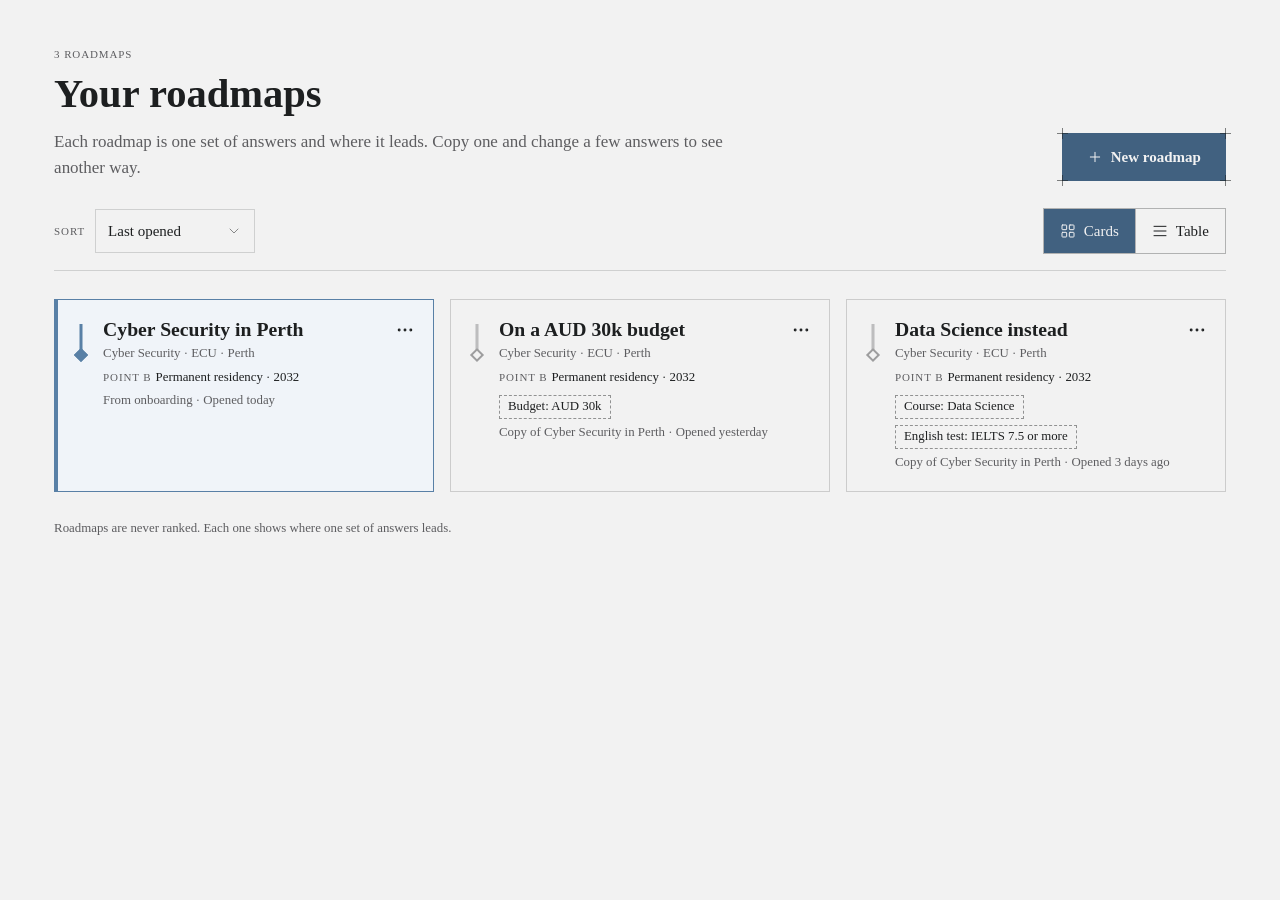
Archive › folds it away: out of the list and the count, said with Undo, the fold closed
Click the button named "More for On a AUD 30k budget" at (801, 330), box x1=779 y1=308 x2=823 y2=352
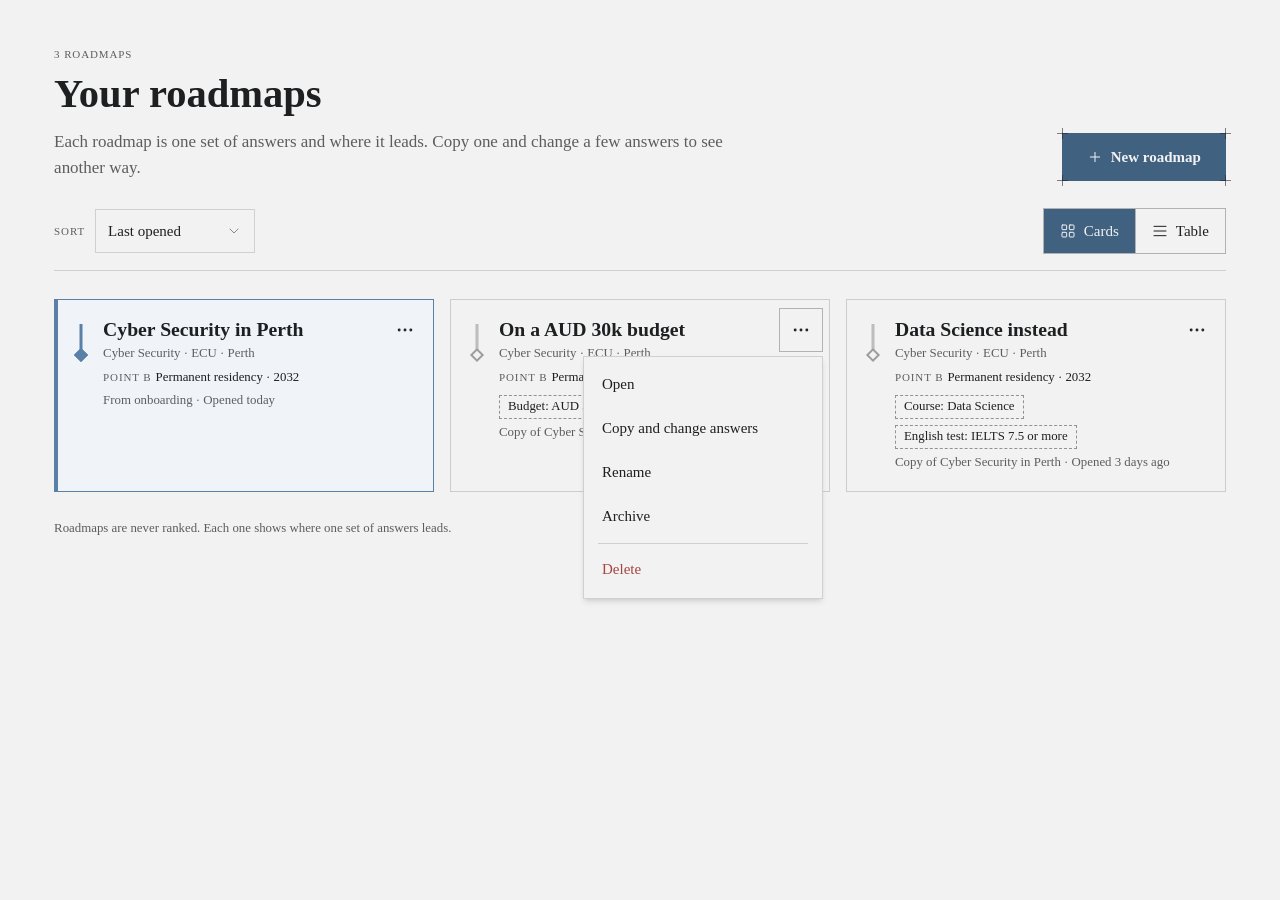
Click the menu item "Archive" at (703, 516), box x1=590 y1=494 x2=816 y2=538
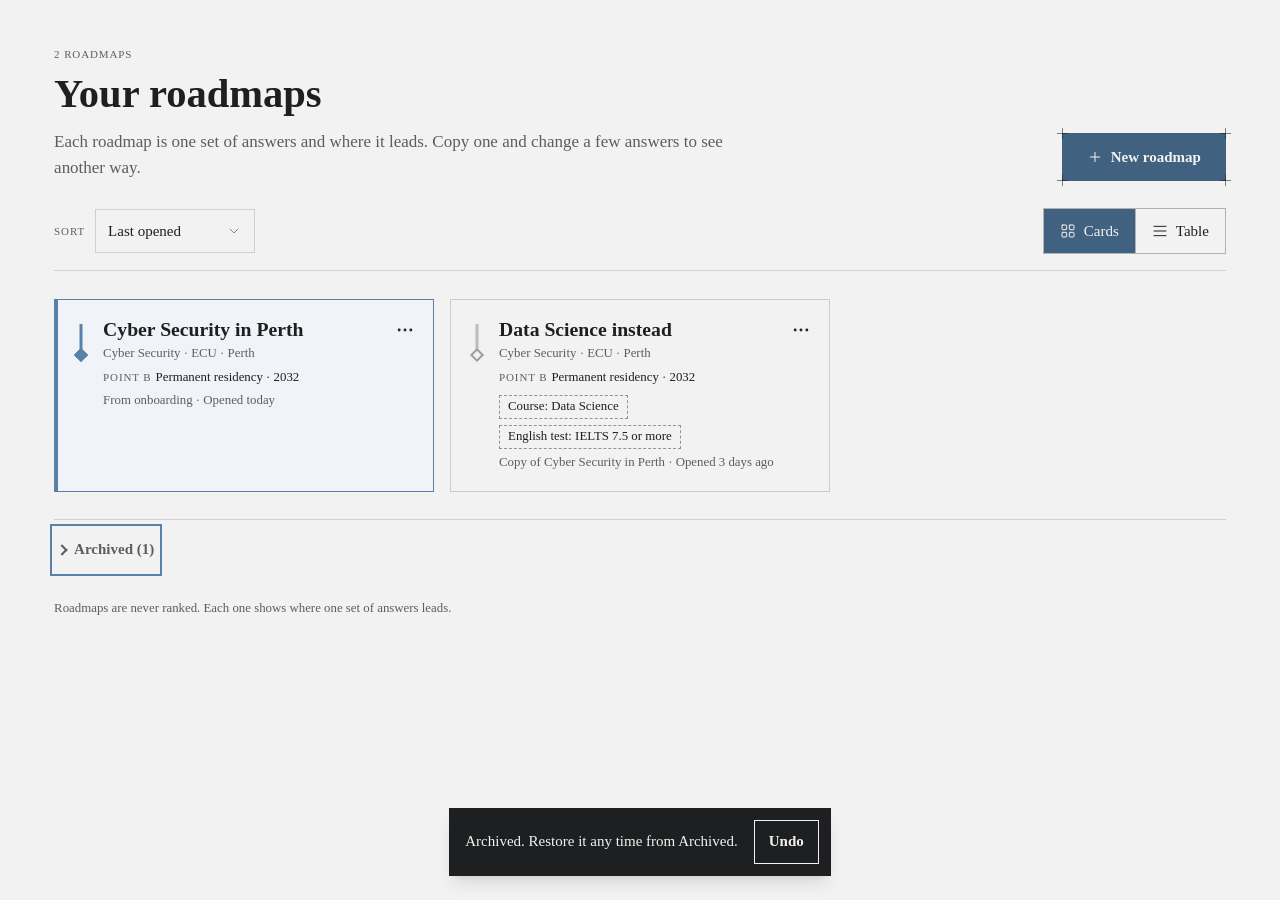
Expected: the text "Archived. Restore it any time from Archived." is shown, x1=465 y1=830 x2=738 y2=854
Expected: the button "Undo" is shown, x1=754 y1=820 x2=819 y2=864
Expected: the button "Archived (1)" is shown, x1=54 y1=528 x2=158 y2=572
